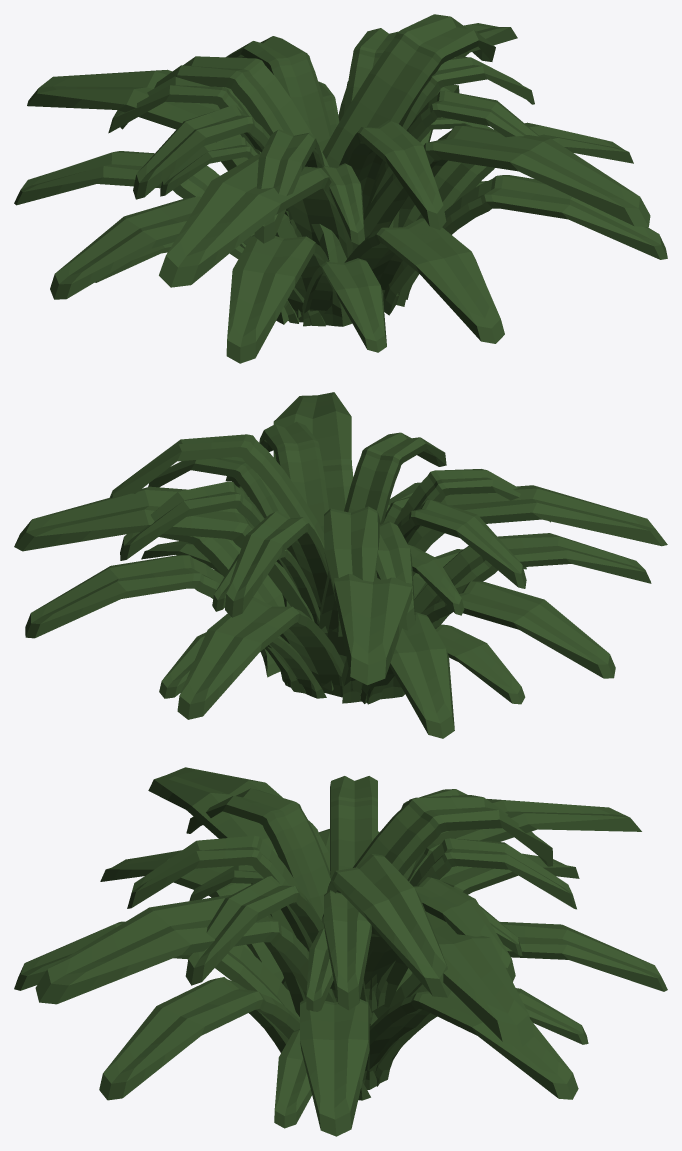
The model's file is ARBUSTO_3_normals.fbx.
The picture shows the model from 3 angles, top to bottom: view 1: azimuth 30°, elevation 25°; view 2: azimuth 150°, elevation 25°; view 3: azimuth 270°, elevation 25°; orthographic projection. The views are drawn at different scales.
Parts seen in each view (by area): view 1: Plane.005, Plane.015, Plane.016, Plane.006, Plane.004, Plane.003, Plane.007, Plane.001, Plane.002, Plane.009, Plane.011, Plane.010 (+1 smaller); view 2: Plane.005, Plane.003, Plane.015, Plane.006, Plane.004, Plane.016, Plane.008, Plane.001, Plane.007, Plane.002, Plane.009, Plane.013 (+1 smaller); view 3: Plane.005, Plane.015, Plane.016, Plane.007, Plane.001, Plane.006, Plane.002, Plane.003, Plane.004, Plane.008, Plane.012, Plane.011 (+1 smaller).
Boxes of the visible parts, bbox=[...] form: Plane.005: bbox=[14, 23, 667, 363]; Plane.015: bbox=[322, 14, 495, 167]; Plane.016: bbox=[120, 56, 346, 263]; Plane.006: bbox=[339, 120, 446, 229]; Plane.004: bbox=[133, 105, 270, 199]; Plane.003: bbox=[226, 36, 332, 151]; Plane.007: bbox=[254, 129, 324, 243]; Plane.001: bbox=[365, 90, 539, 211]; Plane.002: bbox=[371, 57, 534, 193]; Plane.009: bbox=[108, 76, 261, 154]; Plane.011: bbox=[308, 163, 364, 244]; Plane.010: bbox=[160, 137, 301, 237]; Plane.005: bbox=[14, 392, 667, 738]; Plane.003: bbox=[225, 511, 338, 632]; Plane.015: bbox=[110, 434, 324, 548]; Plane.006: bbox=[344, 432, 446, 524]; Plane.004: bbox=[397, 500, 526, 588]; Plane.016: bbox=[324, 506, 380, 600]; Plane.008: bbox=[120, 481, 264, 560]; Plane.001: bbox=[259, 421, 328, 532]; Plane.007: bbox=[394, 469, 550, 530]; Plane.002: bbox=[148, 457, 290, 518]; Plane.009: bbox=[338, 521, 415, 636]; Plane.013: bbox=[212, 549, 327, 633]; Plane.005: bbox=[14, 767, 667, 1136]; Plane.015: bbox=[327, 854, 451, 997]; Plane.016: bbox=[281, 795, 552, 1001]; Plane.007: bbox=[186, 788, 330, 920]; Plane.001: bbox=[185, 876, 324, 985]; Plane.006: bbox=[127, 835, 303, 908]; Plane.002: bbox=[324, 890, 378, 1011]; Plane.003: bbox=[409, 838, 576, 909]; Plane.004: bbox=[330, 776, 377, 878]; Plane.008: bbox=[364, 877, 515, 1006]; Plane.012: bbox=[306, 928, 372, 1017]; Plane.011: bbox=[189, 865, 263, 900].
Size of the model in its own units: 1069 by 431 by 1004.
